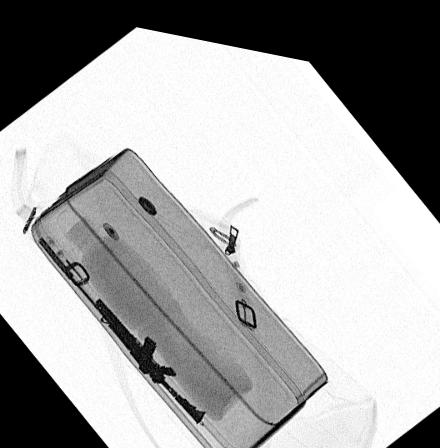Gun: (35, 234, 206, 419)
